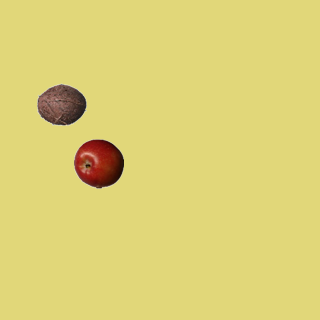Apple Braeburn: (73, 138, 123, 188)
Cocos: (36, 79, 86, 129)
